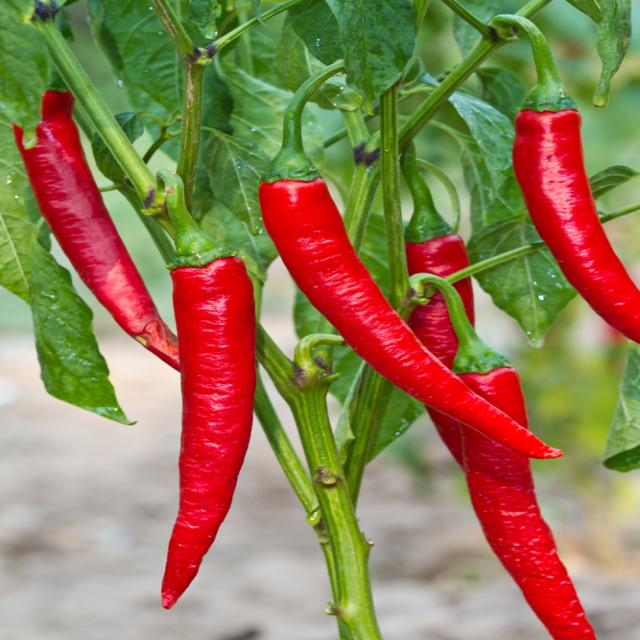Ripe: (259, 179, 560, 459), (13, 90, 178, 369), (430, 410, 596, 640), (161, 256, 257, 608), (513, 110, 639, 342), (409, 234, 473, 366), (460, 368, 527, 427)
